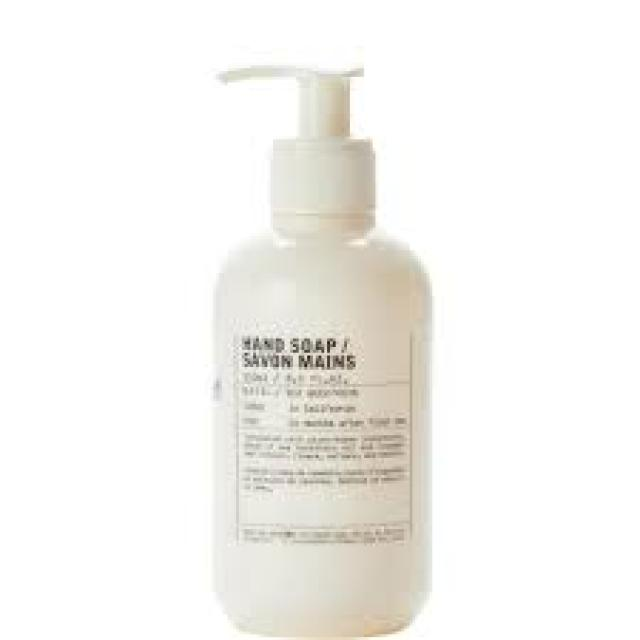liquid soap: (205, 42, 438, 640)
